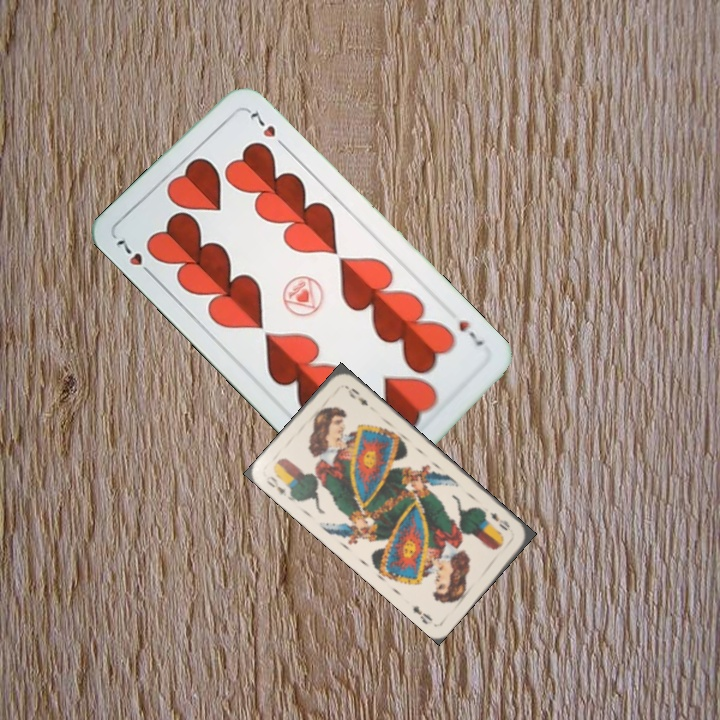EO: (262, 470, 296, 503), (485, 508, 512, 533)
H7: (111, 235, 157, 280), (454, 316, 486, 349)
